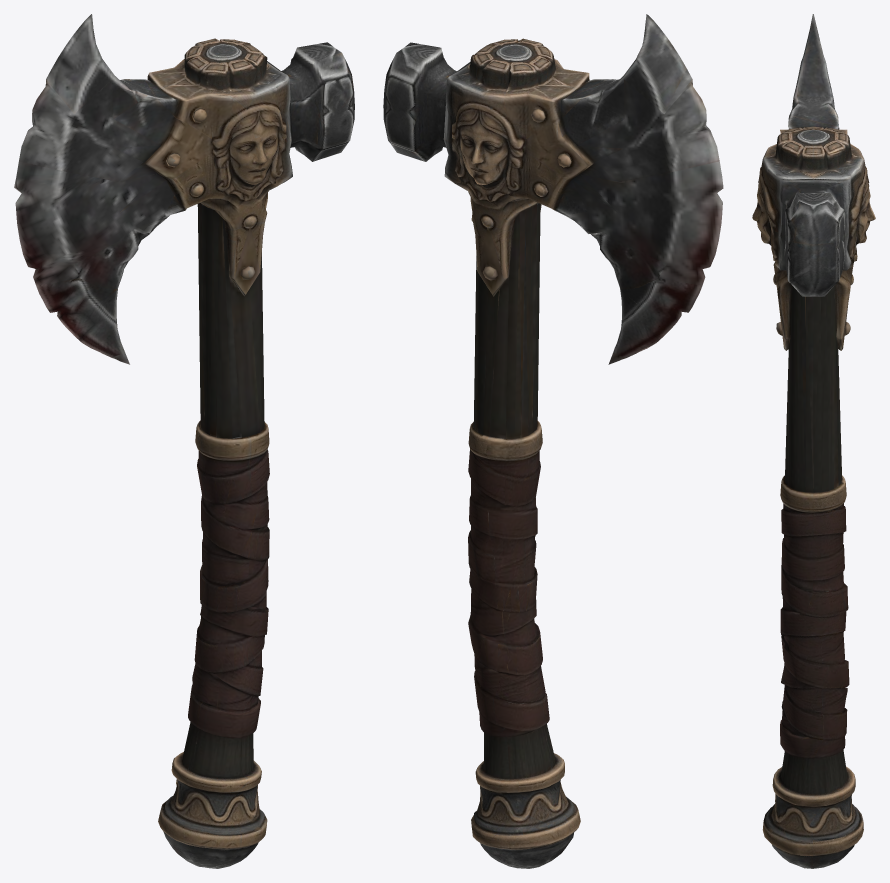
The model's file is axe-0ed2620d254c.glb.
3 views of the same model, side by side, from view 1: azimuth 30°, elevation 25°; view 2: azimuth 150°, elevation 25°; view 3: azimuth 270°, elevation 25° (orthographic). The views are drawn at different scales.
Size of the model in its own units: 0.3784 by 0.9502 by 0.1333.
1 material, 1 textured.
